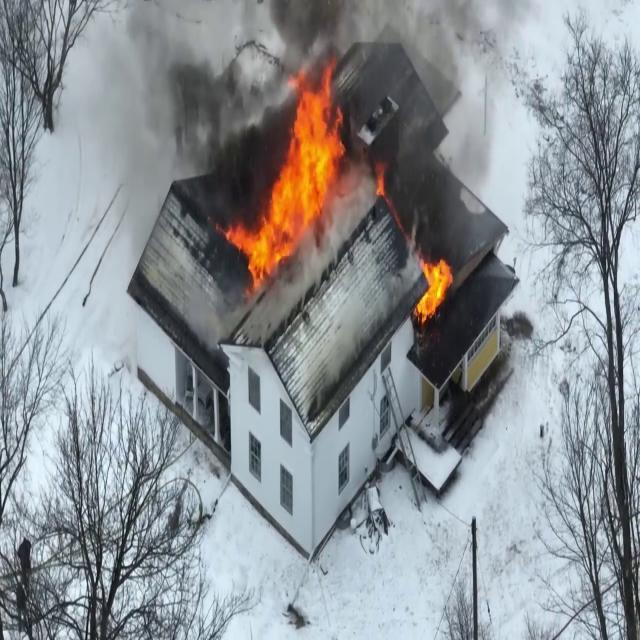Fire: (235, 66, 351, 294), (413, 244, 456, 328)
Smoke: (336, 0, 493, 236), (125, 5, 272, 204)
